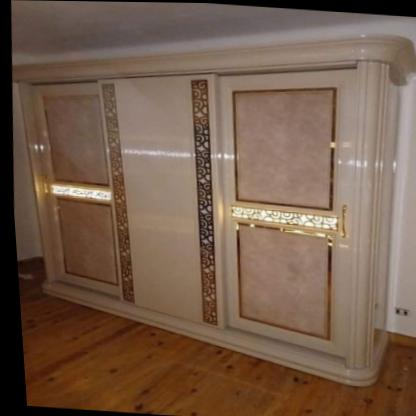Closet: (11, 34, 416, 387)
Wooden floor: (14, 260, 416, 416)
